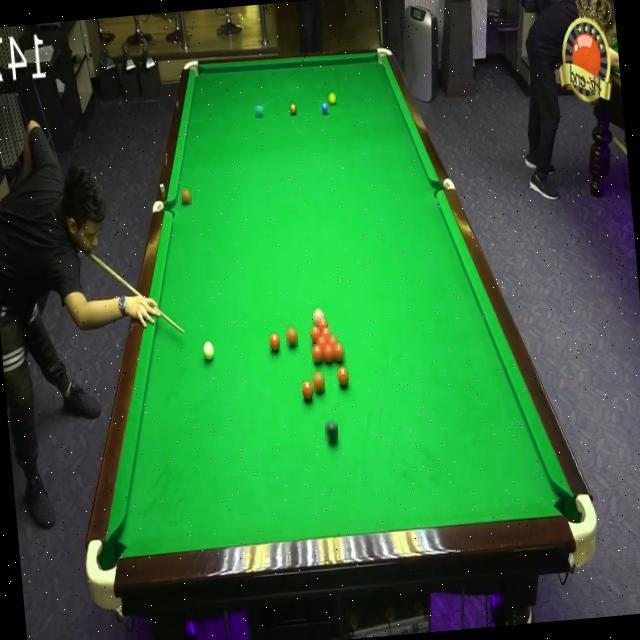Ball: (325, 418, 338, 441), (301, 381, 314, 403), (202, 340, 215, 361), (313, 372, 325, 393), (286, 326, 298, 347), (337, 367, 349, 386), (333, 343, 345, 361), (312, 344, 324, 362), (268, 332, 280, 349), (323, 344, 334, 362), (313, 307, 324, 325), (326, 334, 338, 350), (310, 324, 321, 340), (317, 317, 328, 333), (182, 188, 192, 205), (316, 336, 327, 351), (320, 327, 331, 340), (328, 92, 336, 105), (255, 106, 263, 118), (290, 101, 297, 114), (322, 103, 328, 114)
